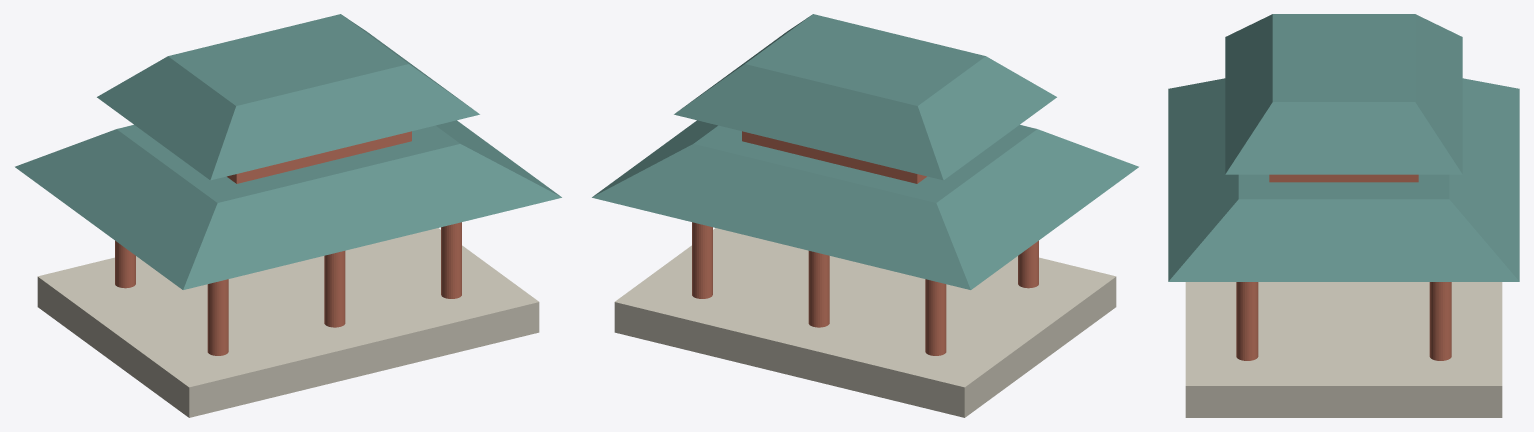
The model's file is pavilion.glb.
3 views of the same model, side by side, from view 1: azimuth 30°, elevation 25°; view 2: azimuth 150°, elevation 25°; view 3: azimuth 270°, elevation 25° (orthographic). The views are drawn at different scales.
Visible parts, largest first — view 1: stone foundation, sweeping tiled roof, sweeping tiled roof.001, upper room, red cedar column.002, red cedar column, red cedar column.004, red cedar column.001; view 2: stone foundation, sweeping tiled roof, sweeping tiled roof.001, upper room, red cedar column.003, red cedar column.001, red cedar column.005, red cedar column; view 3: sweeping tiled roof, stone foundation, sweeping tiled roof.001, red cedar column.004, red cedar column.005, upper room.
Part boxes in pixels (box(x1,y1,x2,y2)): stone foundation: box(37, 228, 539, 417); sweeping tiled roof: box(15, 120, 561, 289); sweeping tiled roof.001: box(97, 14, 479, 180); upper room: box(227, 131, 411, 183); red cedar column.002: box(324, 251, 345, 327); red cedar column: box(207, 279, 228, 355); red cedar column.004: box(441, 222, 461, 298); red cedar column.001: box(115, 240, 135, 288); stone foundation: box(614, 228, 1116, 417); sweeping tiled roof: box(592, 120, 1138, 289); sweeping tiled roof.001: box(674, 14, 1056, 180); upper room: box(742, 131, 926, 183); red cedar column.003: box(808, 251, 829, 327); red cedar column.001: box(925, 279, 946, 355); red cedar column.005: box(692, 222, 712, 298); red cedar column: box(1018, 240, 1038, 288); sweeping tiled roof: box(1168, 78, 1519, 281); stone foundation: box(1185, 282, 1502, 417); sweeping tiled roof.001: box(1225, 14, 1462, 174); red cedar column.004: box(1236, 282, 1258, 360); red cedar column.005: box(1429, 282, 1451, 360); upper room: box(1269, 174, 1418, 182).
Bounding box in the file's own units: 52 × 34 × 40.
